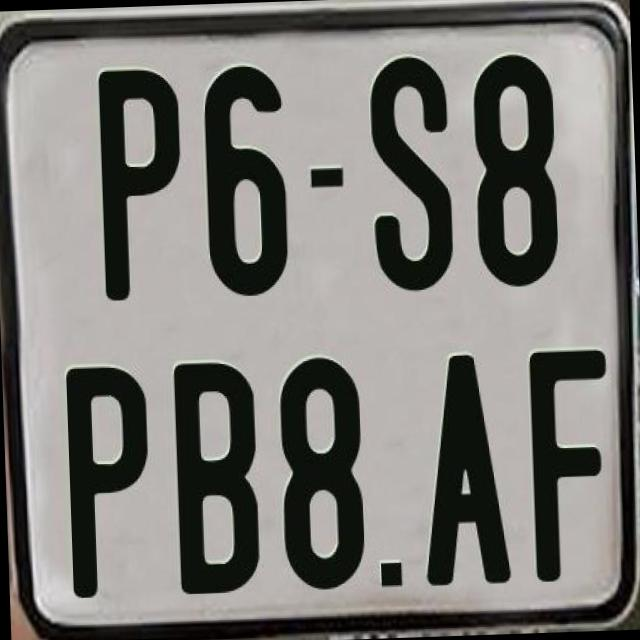6: (198, 62, 290, 297)
8: (468, 51, 564, 289), (277, 351, 369, 588)
A: (416, 352, 510, 584)
B: (170, 356, 260, 598)
F: (525, 344, 612, 580)
P: (64, 364, 159, 608), (94, 63, 180, 304)
S: (364, 52, 456, 290)
